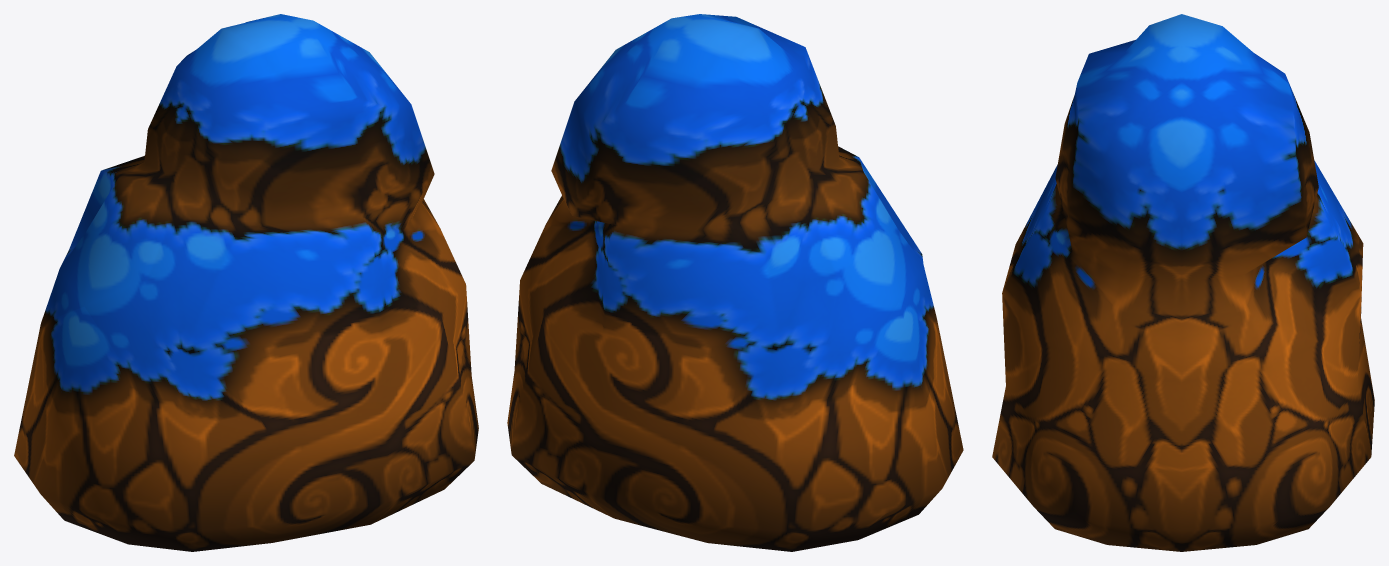
Rendered from Blue_Rock_02.FBX.
3 renders of one model, left to right at view 1: azimuth 30°, elevation 25°; view 2: azimuth 150°, elevation 25°; view 3: azimuth 270°, elevation 25°, orthographic.
Visible parts, largest first — view 1: Blue_Rock_02; view 2: Blue_Rock_02; view 3: Blue_Rock_02.
Boxes of the visible parts, x1=… form: Blue_Rock_02: x1=14, y1=14, x2=478, y2=551; Blue_Rock_02: x1=507, y1=14, x2=963, y2=551; Blue_Rock_02: x1=992, y1=14, x2=1374, y2=551.
Size of the model in its own units: 349 by 360 by 281.
